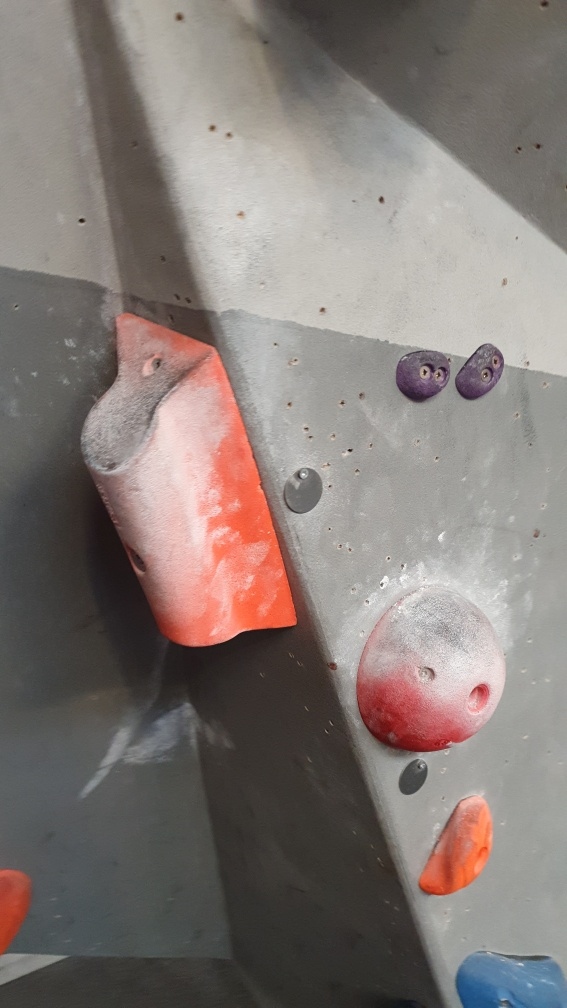Hand Start: (281, 463, 328, 520), (392, 756, 434, 799)
Pinch: (76, 307, 299, 655)
Sloper: (353, 581, 510, 754)
